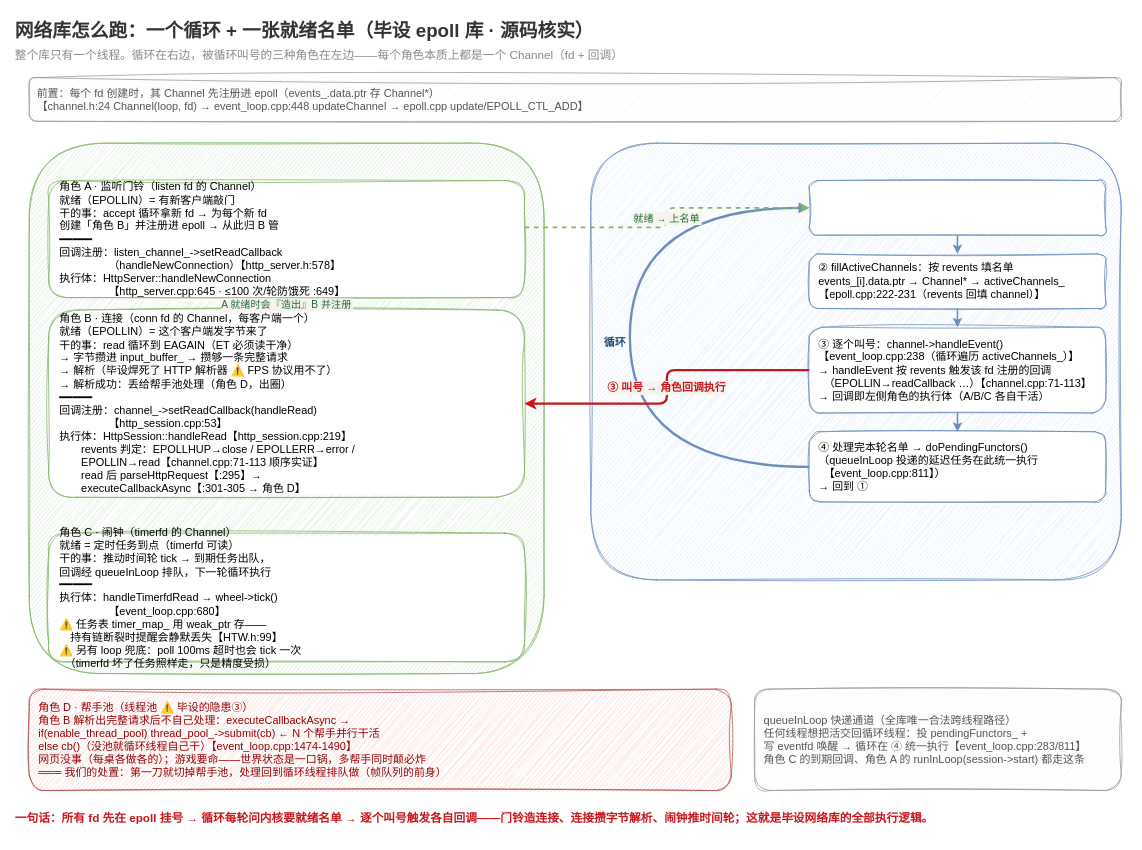
Image size: 1142x850. Some labels were removed from this diagram. Each missing label, with the box of its shape:
① Epoll::poll(timeout=100ms) 内核报告：哪些 fd 就绪了 【event_loop.cpp:217 → epoll_wait】: (808, 180, 1106, 235)
三种角色 = 三类 Channel（都在 epoll 里挂号，就绪才上名单）: (28, 142, 544, 674)
主循环（EventLoop::loop，唯一线程）: (590, 142, 1121, 580)
